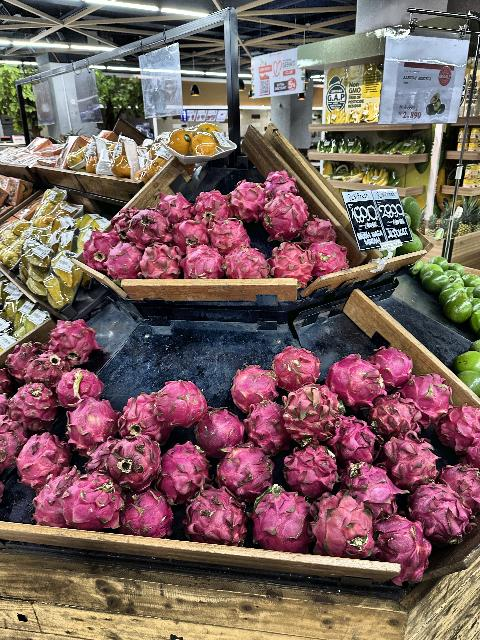buah-naga-matang: (251, 486, 315, 552), (314, 495, 378, 559), (338, 463, 410, 519), (188, 484, 250, 548), (407, 484, 473, 544), (374, 516, 434, 582), (64, 471, 122, 531), (214, 442, 278, 494), (324, 355, 389, 405), (19, 429, 74, 488), (320, 415, 384, 465), (281, 388, 339, 442), (282, 442, 340, 496), (110, 434, 162, 488), (156, 443, 209, 495), (118, 482, 169, 536), (384, 434, 436, 486), (65, 400, 117, 450), (369, 392, 425, 438), (402, 372, 452, 421), (118, 396, 169, 444), (432, 460, 480, 510), (152, 382, 208, 424), (244, 401, 290, 451), (194, 412, 250, 452), (35, 470, 78, 522), (8, 384, 56, 430), (228, 362, 276, 408), (49, 318, 99, 360), (262, 189, 306, 235), (440, 399, 480, 448), (270, 242, 312, 286), (271, 344, 319, 382), (58, 368, 106, 404), (368, 343, 412, 382), (82, 436, 122, 476), (224, 247, 270, 280), (308, 240, 350, 276), (129, 209, 171, 243), (228, 180, 264, 218), (140, 248, 182, 280), (0, 417, 26, 468), (184, 246, 222, 280), (190, 188, 230, 220), (26, 352, 66, 384), (109, 244, 142, 282), (6, 340, 40, 376), (155, 190, 193, 222), (210, 218, 250, 248), (84, 230, 118, 264), (300, 216, 336, 244), (171, 221, 211, 245), (264, 168, 300, 194)
